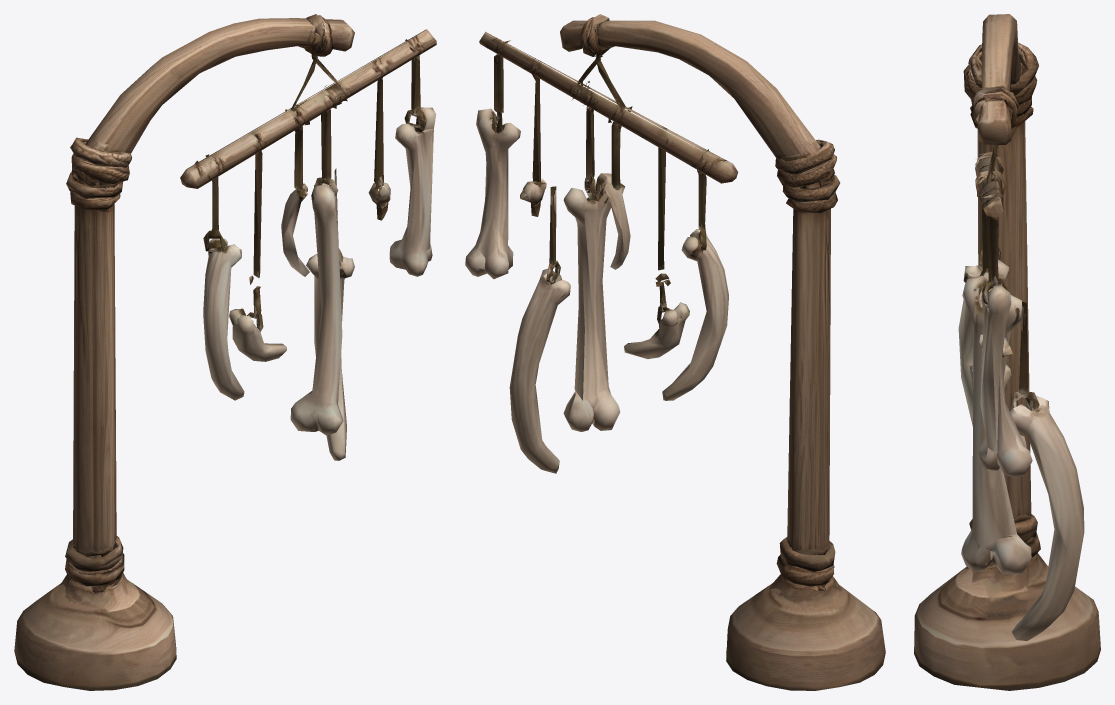
Rendered from act1_kit_v1_bone_mobile.glb.
The picture shows the model from 3 angles, left to right: view 1: azimuth 30°, elevation 25°; view 2: azimuth 150°, elevation 25°; view 3: azimuth 270°, elevation 25°; orthographic projection. The views are drawn at different scales.
Parts seen in each view (by area): view 1: A14_4_bone_mobile; view 2: A14_4_bone_mobile; view 3: A14_4_bone_mobile.
Part boxes in pixels (x1,y1,x2,y2): A14_4_bone_mobile: [14, 14, 436, 690]; A14_4_bone_mobile: [465, 14, 885, 690]; A14_4_bone_mobile: [914, 14, 1100, 690].
Size of the model in its own units: 0.7114 by 1 by 0.2429.
Materials: 1 (1 with a texture image).
